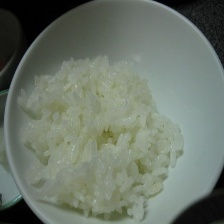rice: (16, 49, 190, 221)
